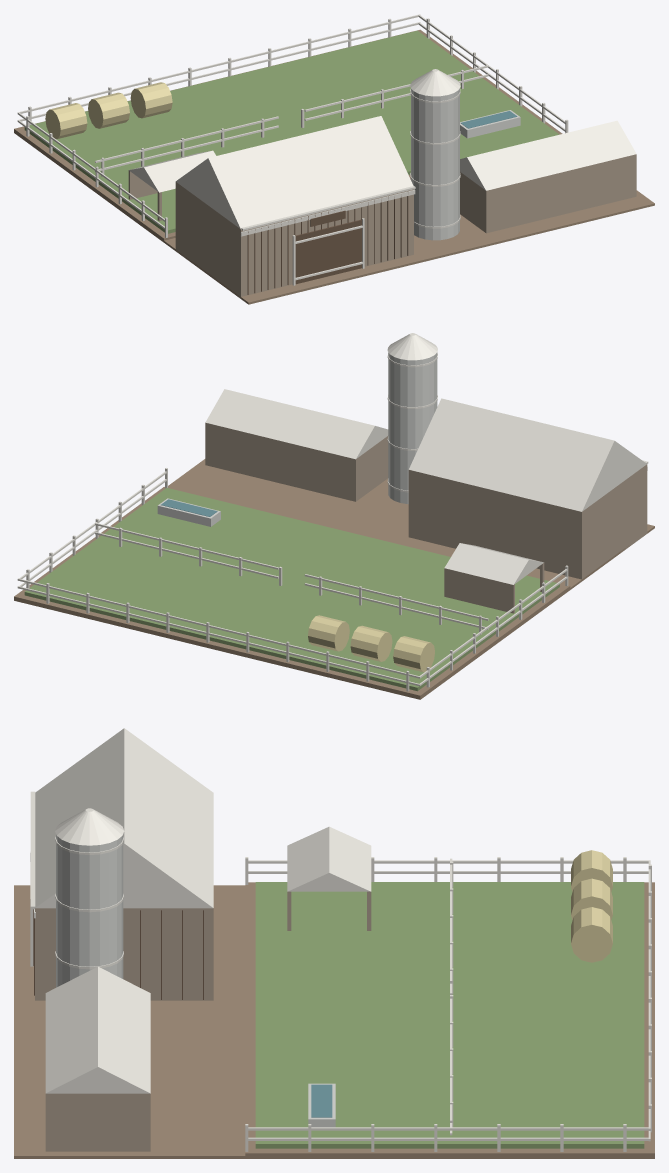
File: farm_4x4.glb
3 views of the same model, one above another, from view 1: azimuth 30°, elevation 25°; view 2: azimuth 150°, elevation 25°; view 3: azimuth 270°, elevation 25° (orthographic). The views are drawn at different scales.
Visible parts, largest first — view 1: farm_4x4_yard; view 2: farm_4x4_yard; view 3: farm_4x4_yard.
Part boxes in pixels (x1,y1,x2,y2): farm_4x4_yard: [14, 14, 654, 304]; farm_4x4_yard: [14, 333, 654, 699]; farm_4x4_yard: [14, 728, 654, 1158].
Size of the model in its own units: 30.5 by 11.6 by 30.5.
